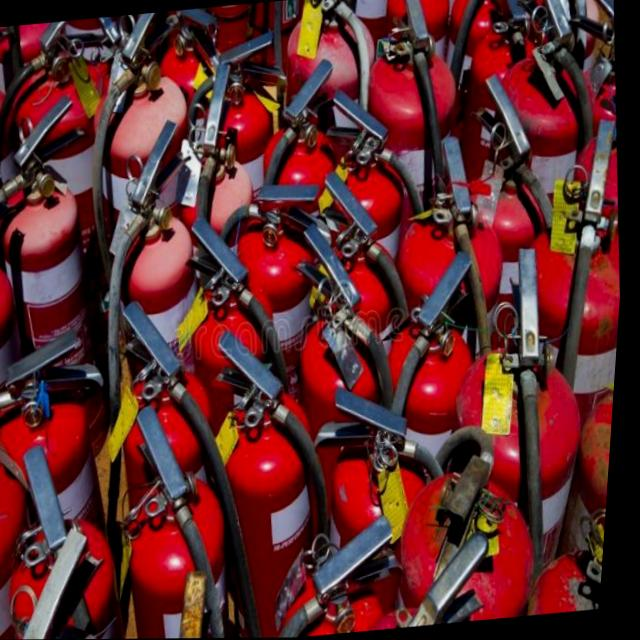FireExtinguisher: (343, 131, 545, 580), (55, 9, 230, 498), (157, 198, 341, 639), (478, 110, 634, 609), (267, 212, 446, 637), (423, 235, 618, 622), (72, 115, 237, 556), (452, 0, 621, 425), (181, 171, 359, 574), (332, 0, 495, 423), (429, 64, 591, 482), (255, 0, 416, 409), (0, 16, 143, 459), (0, 86, 133, 542), (369, 251, 525, 628), (96, 281, 260, 639), (164, 22, 315, 385), (200, 314, 357, 639), (293, 369, 475, 636), (0, 321, 144, 640), (385, 416, 571, 628), (101, 395, 255, 639), (7, 430, 144, 640), (0, 226, 61, 640), (535, 363, 621, 613), (269, 507, 431, 638), (0, 394, 53, 640), (520, 497, 614, 616)
